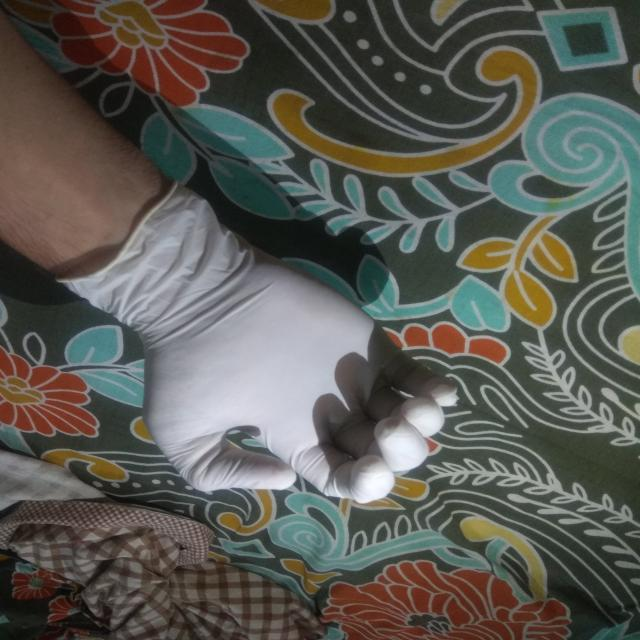gloved_hand: (52, 172, 464, 510)
